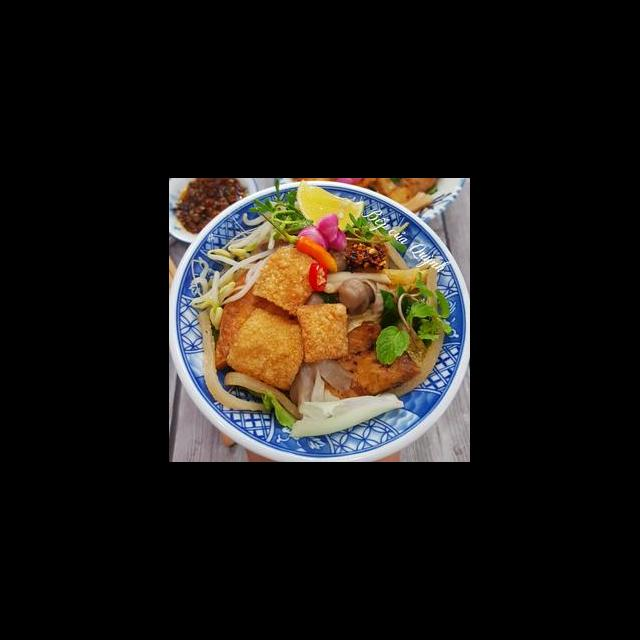banh da: (210, 268, 296, 372), (223, 305, 310, 392), (250, 243, 328, 317), (292, 300, 353, 365)
mi: (196, 309, 306, 423), (316, 218, 428, 305), (376, 265, 448, 399), (284, 355, 356, 425)
mi quang: (172, 194, 470, 459)
thit heo: (316, 317, 424, 403)
